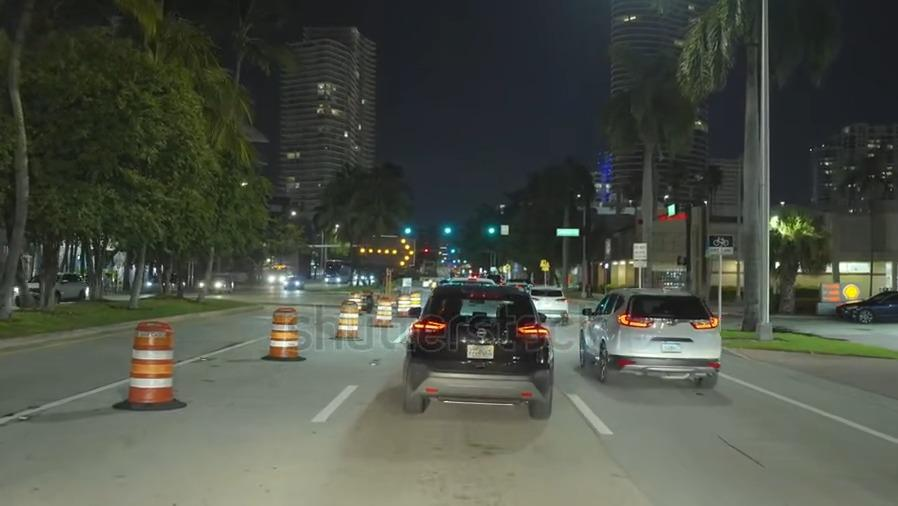arrow traffic sign: (353, 236, 417, 271)
bus: (321, 255, 349, 287), (267, 261, 291, 287)
car: (415, 284, 551, 419), (579, 287, 720, 393), (836, 285, 898, 327), (13, 270, 89, 303), (527, 280, 568, 323), (143, 271, 185, 294), (198, 271, 235, 295), (281, 275, 303, 290)
cone: (125, 319, 175, 401), (267, 303, 300, 358), (333, 299, 358, 342), (372, 291, 392, 330), (395, 291, 409, 318), (408, 289, 420, 314)
traffic light: (433, 219, 459, 243), (479, 220, 499, 246), (397, 221, 417, 239)
wheel: (596, 339, 618, 383)
